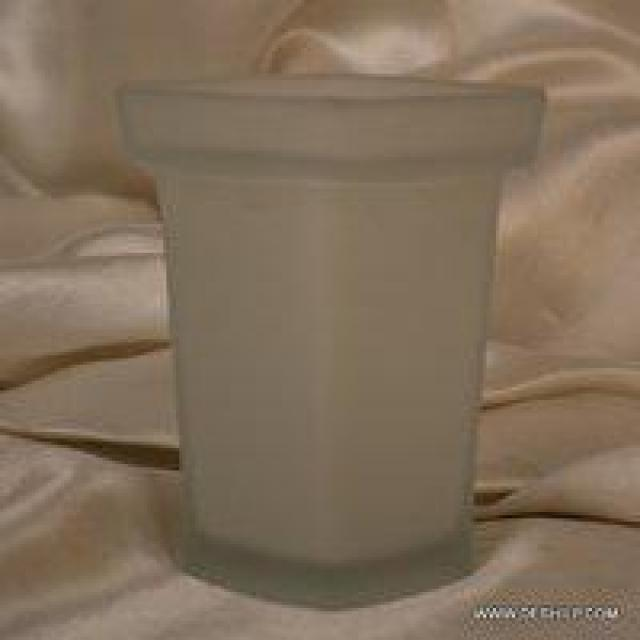glass: (112, 72, 547, 610)
